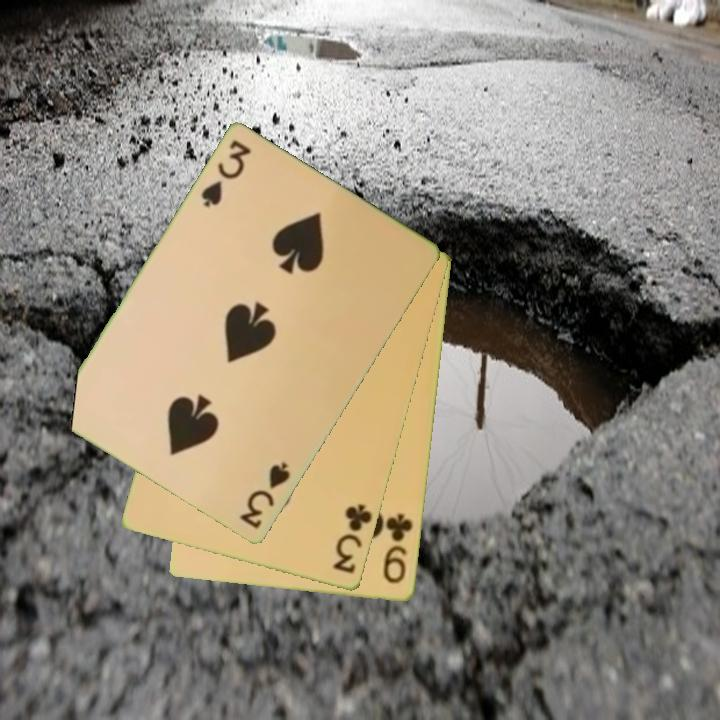3c: (330, 500, 375, 577)
3s: (197, 137, 255, 211), (236, 459, 294, 532)
9c: (380, 510, 416, 587)
